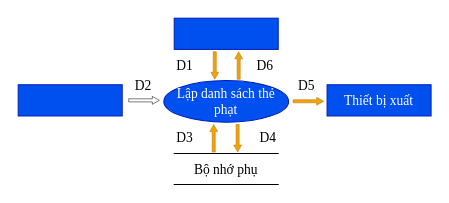
The diagram is 449 pixels wide and 203 high, and some of its shapes have lost their labels. Here are the shapes that lost their labels. From the top down, the centre of each, then its label:
pixel 225 33: Người dùng
pixel 69 100: Thiết bị nhập
